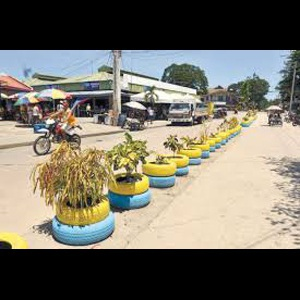tire: (50, 214, 116, 244), (56, 196, 110, 224), (106, 173, 149, 193), (109, 190, 151, 209), (141, 160, 175, 175), (158, 154, 188, 166), (175, 148, 201, 158), (187, 142, 208, 149)
